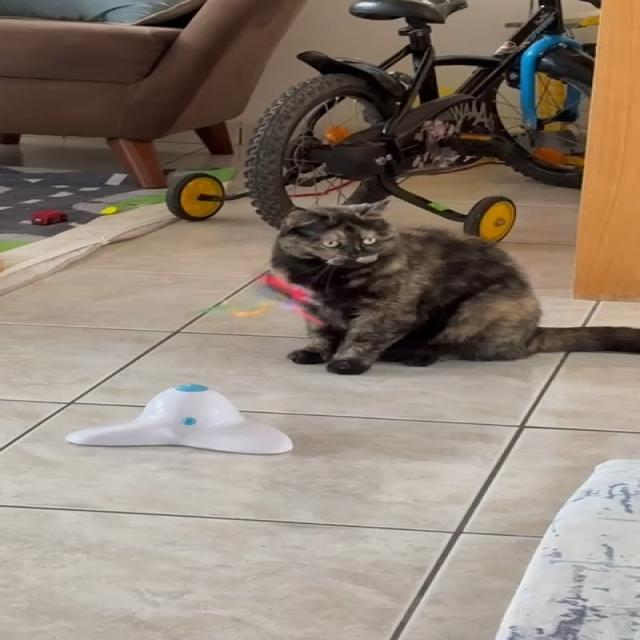authorized: (268, 198, 639, 374)
